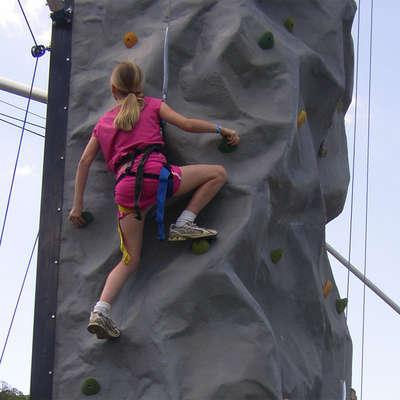person: (72, 61, 241, 340)
